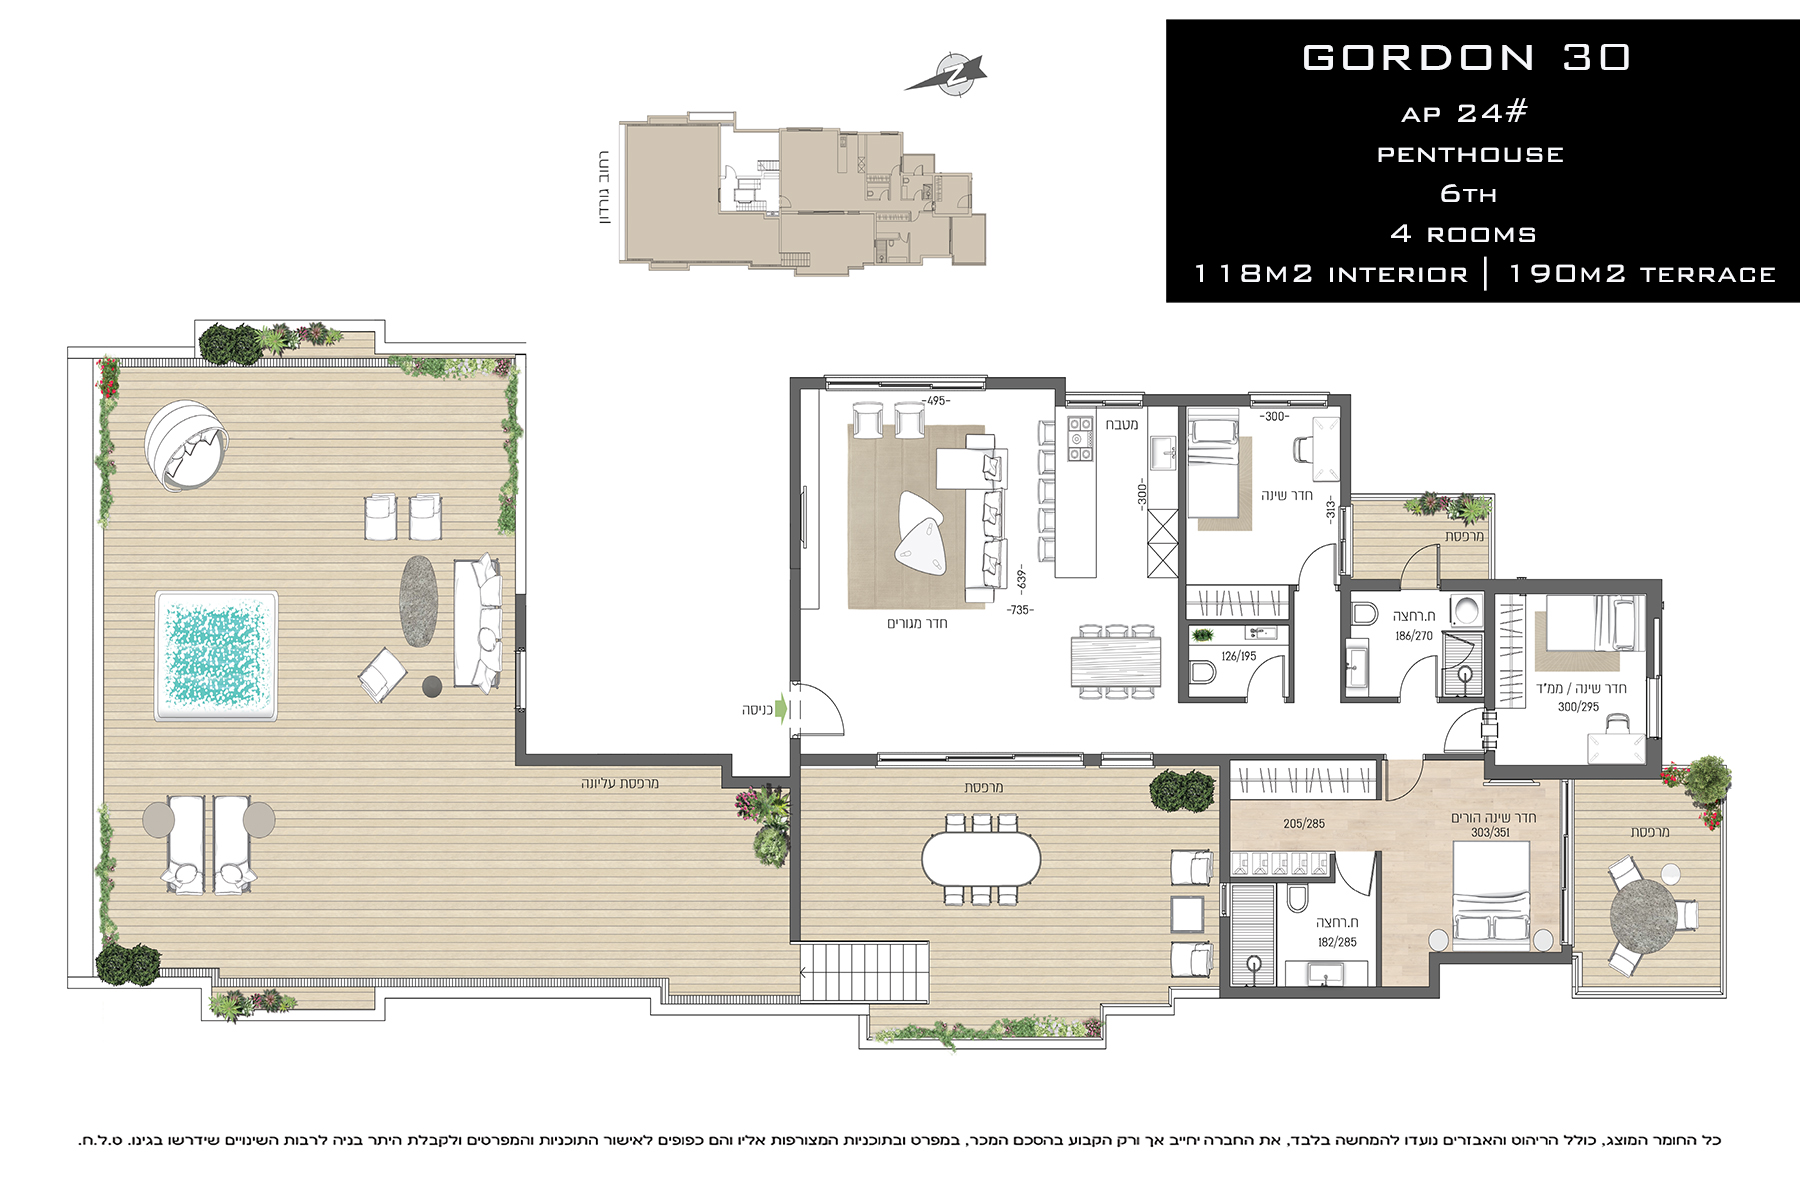door: (804, 680, 849, 745), (1237, 654, 1288, 695), (1396, 656, 1446, 692), (1292, 542, 1337, 584), (1383, 763, 1424, 808), (1438, 708, 1476, 753), (1402, 542, 1446, 576), (1345, 871, 1379, 908)
wall: (789, 375, 802, 680), (525, 751, 729, 767), (789, 738, 804, 936), (1221, 984, 1437, 996), (1483, 766, 1662, 779), (1217, 755, 1231, 875), (1430, 954, 1568, 962), (1220, 917, 1229, 996), (729, 775, 794, 786), (516, 708, 526, 767), (722, 755, 737, 789)
window: (876, 755, 1082, 774), (825, 372, 978, 391), (1067, 395, 1144, 411), (1101, 755, 1145, 779), (516, 652, 530, 707), (1219, 883, 1229, 913)
